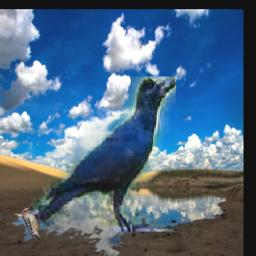Crow: (32, 76, 177, 232)
Woodpecker: (21, 206, 40, 242)
